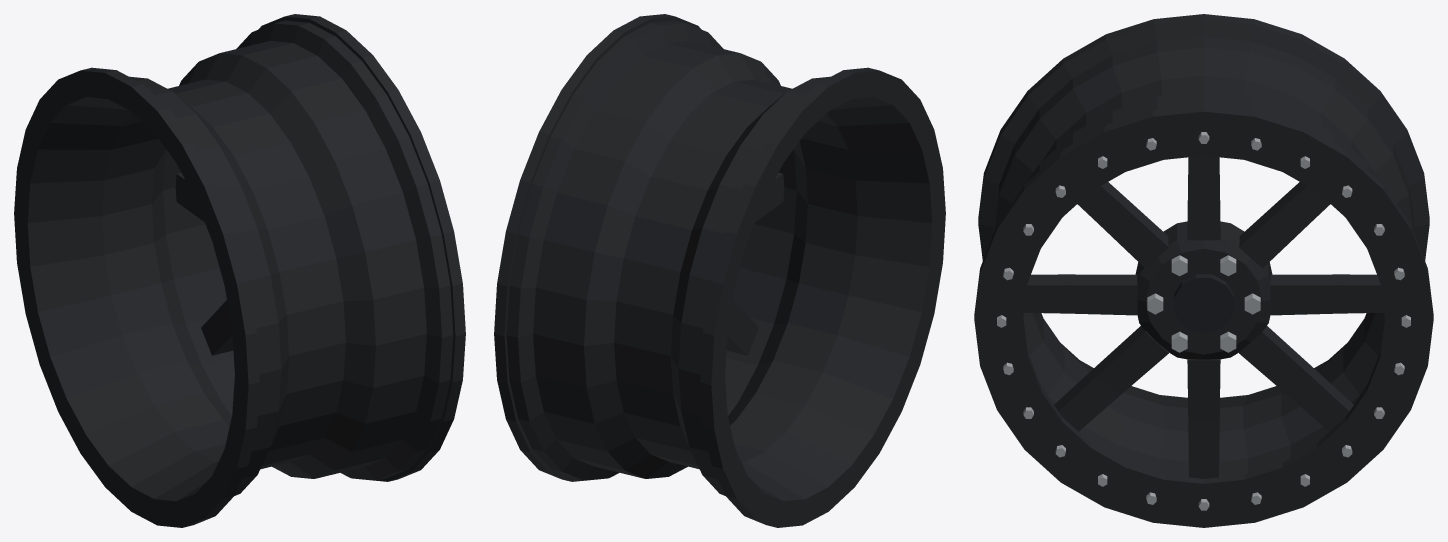
The model's file is rim_beadlock.glb.
3 renders of one model, left to right at view 1: azimuth 30°, elevation 25°; view 2: azimuth 150°, elevation 25°; view 3: azimuth 270°, elevation 25°, orthographic. The views are drawn at different scales.
Parts seen in each view (by area): view 1: model; view 2: model; view 3: model.
Boxes of the visible parts, bbox=[...] form: model: bbox=[14, 14, 465, 527]; model: bbox=[494, 14, 945, 527]; model: bbox=[974, 14, 1433, 527].
Bounding box in the file's own units: 0.2539 × 0.4718 × 0.4718.
Materials: 3 (1 with a texture image).
